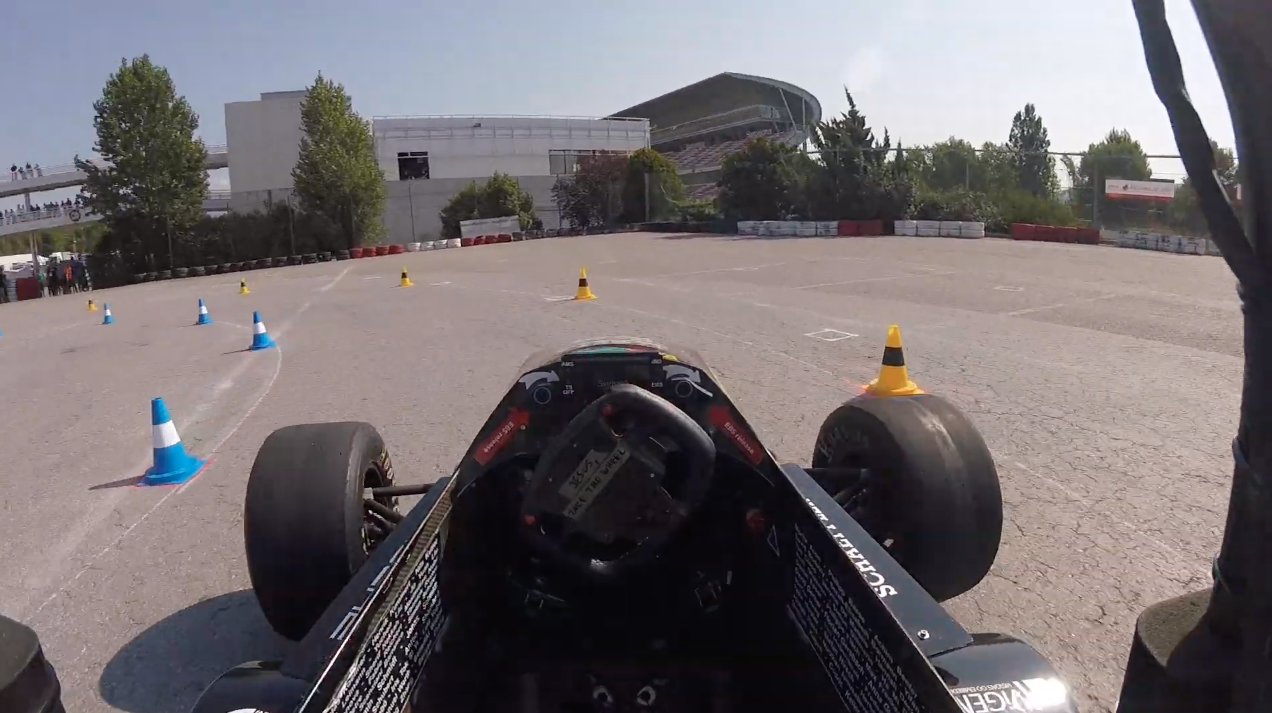lcone: (127, 395, 204, 487), (245, 308, 280, 350), (193, 296, 216, 325)
rcone: (861, 321, 929, 401), (570, 265, 600, 303), (395, 261, 417, 291)
